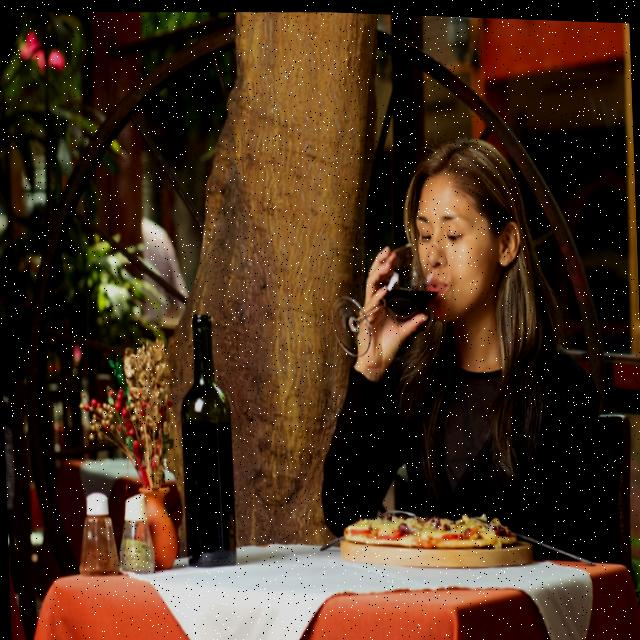eating-person: (295, 116, 628, 579)
